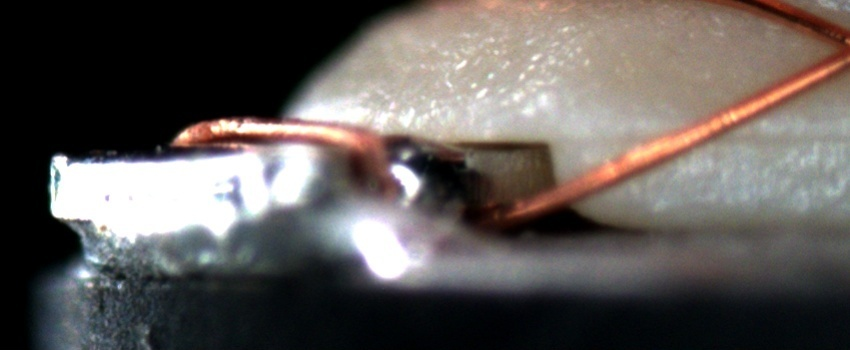CL: (807, 12, 850, 81)
DL: (613, 105, 849, 169)
TE: (157, 113, 388, 157)
